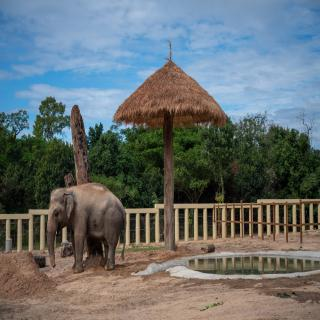Elephant: (44, 180, 134, 276)
